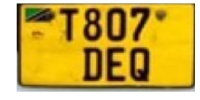T: (58, 6, 81, 44)
